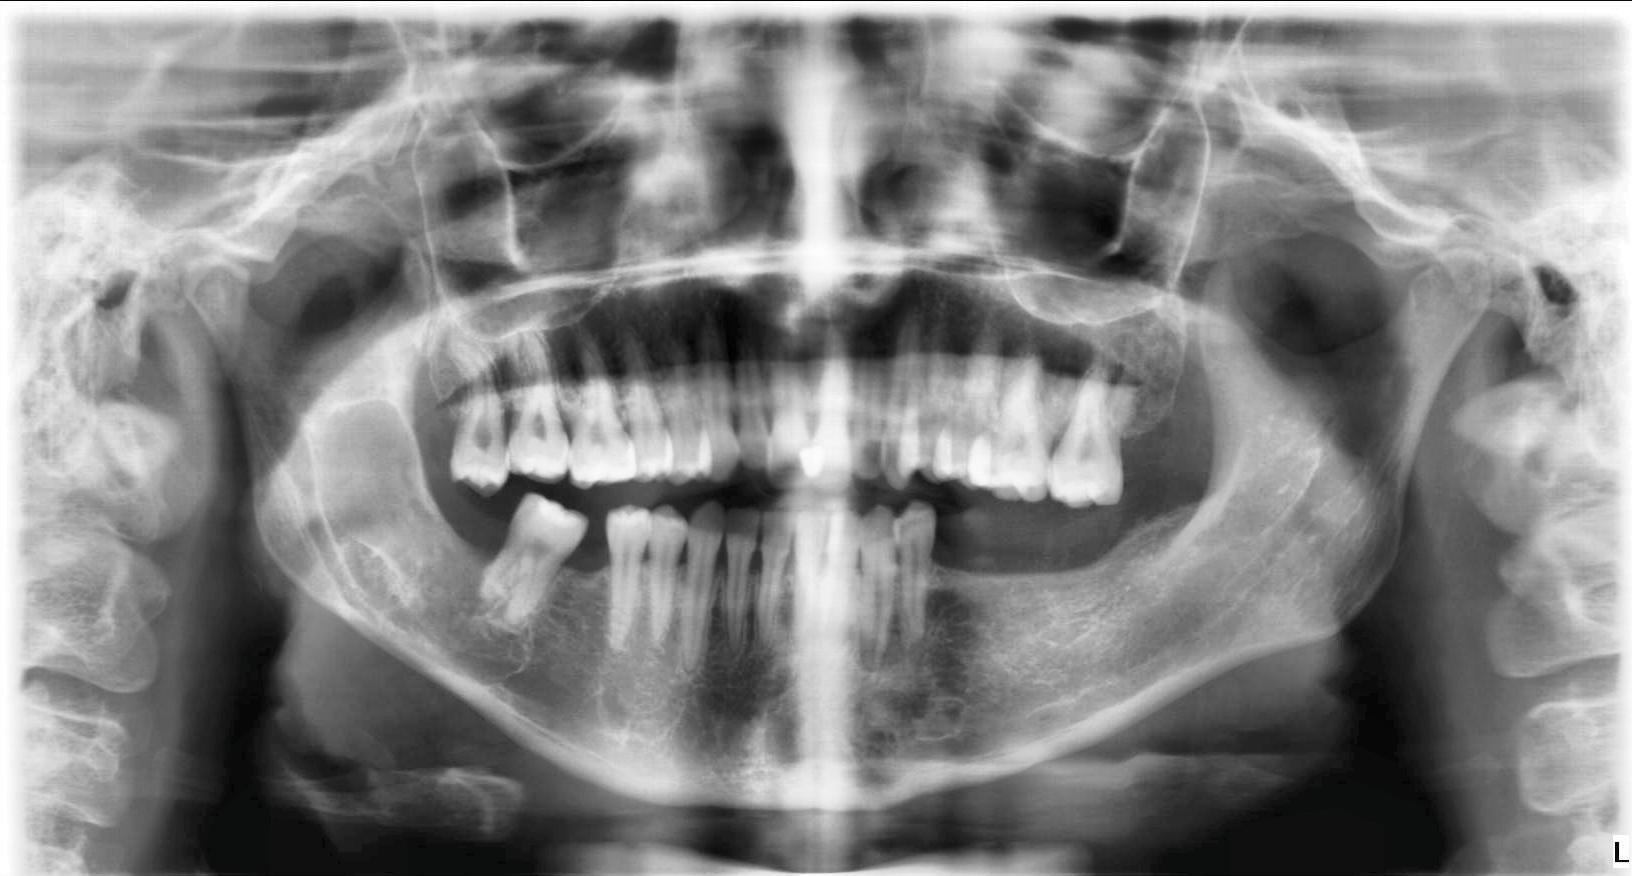keratokist: (312, 398, 449, 580)
